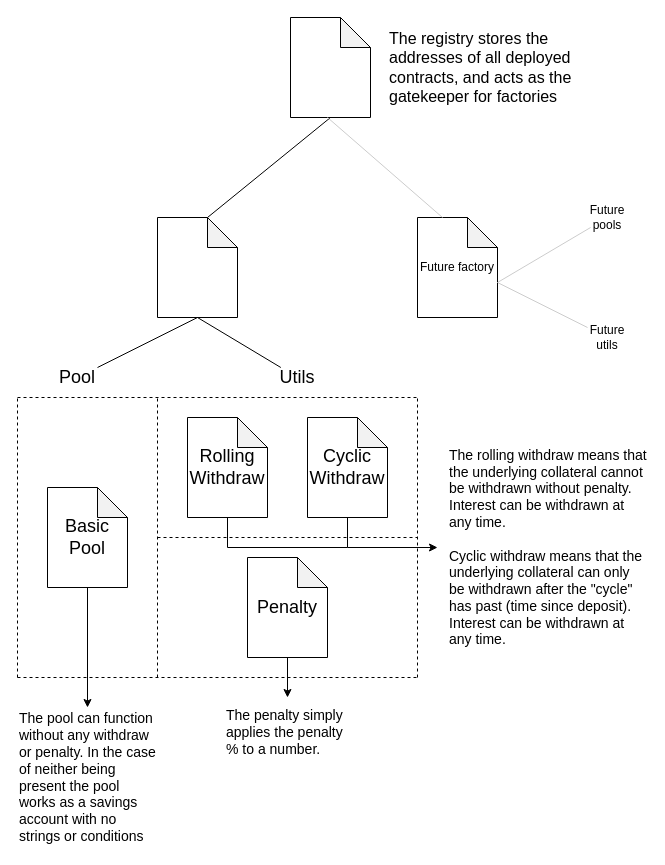
This 665x865 diagram has some shape labels left out. Here are the shapes that lost their labels. From the top down, the box of each, then its label:
(290, 16, 370, 118): Registry
(156, 216, 238, 318): Basic Factory
